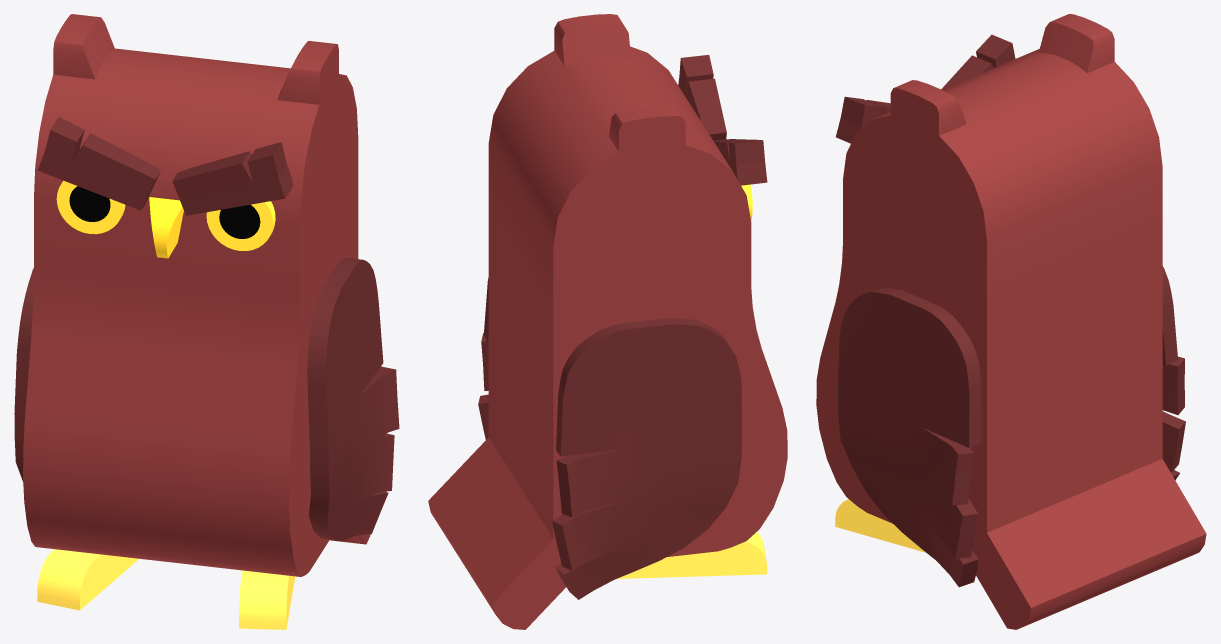
The model's file is owl.glb.
3 views of the same model, side by side, from view 1: azimuth 30°, elevation 25°; view 2: azimuth 150°, elevation 25°; view 3: azimuth 270°, elevation 25° (orthographic). The views are drawn at different scales.
Visible parts, largest first — view 1: Cube.109; view 2: Cube.109; view 3: Cube.109.
Boxes of the visible parts, x1,y1,x2,y2 form: Cube.109: (14,14,399,629); Cube.109: (428,14,787,629); Cube.109: (816,14,1206,629).
Bounding box in the file's own units: 1.57 × 2.2 × 1.57.
Materials: 1 (1 with a texture image).
